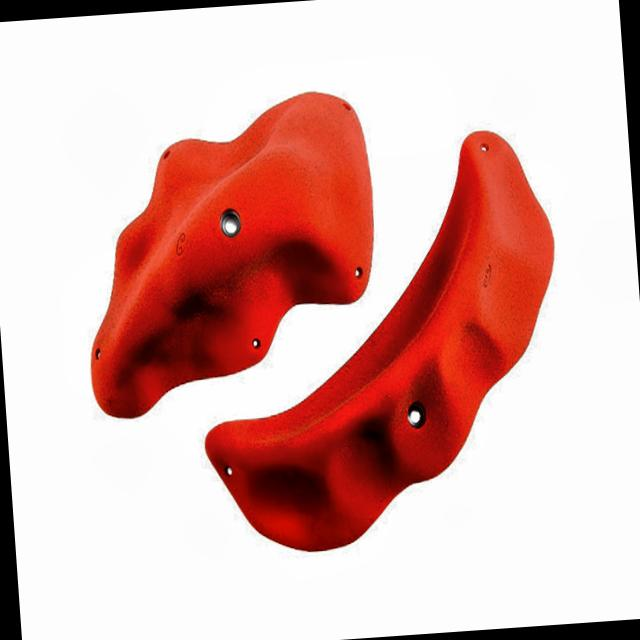Hold: (191, 115, 563, 564), (73, 79, 377, 439)
